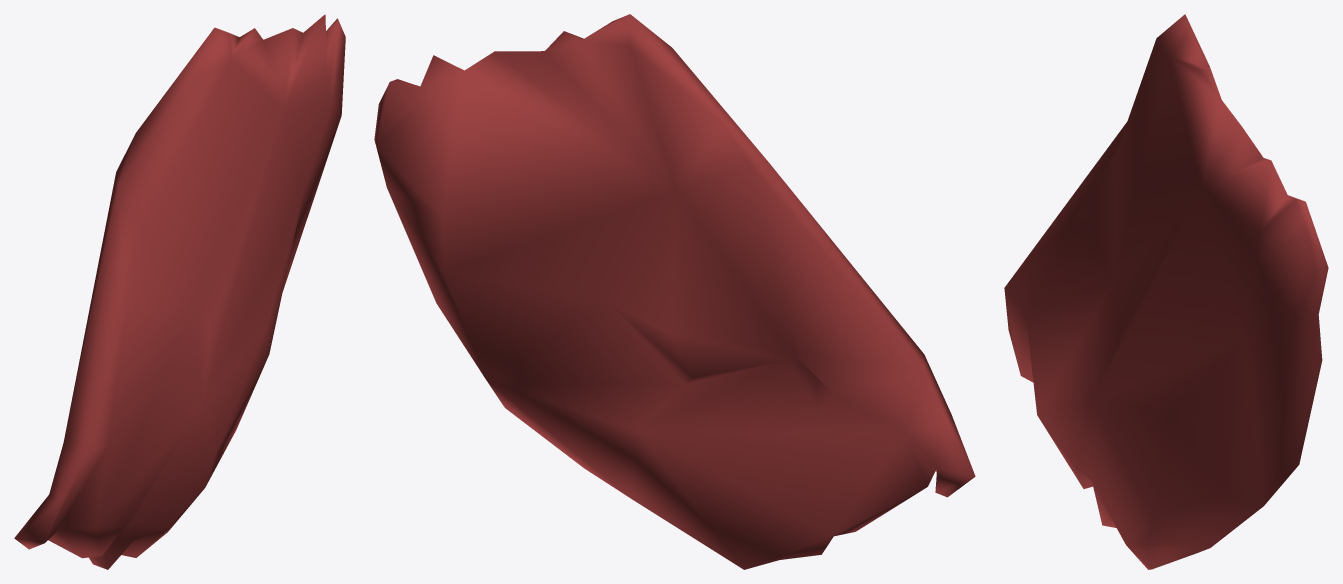
File: mentalis-muscle-l.glb
3 views of the same model, side by side, from view 1: azimuth 30°, elevation 25°; view 2: azimuth 150°, elevation 25°; view 3: azimuth 270°, elevation 25° (orthographic). The views are drawn at different scales.
Visible parts, largest first — view 1: Mentalis muscle.l; view 2: Mentalis muscle.l; view 3: Mentalis muscle.l.
Boxes of the visible parts, x1,y1,x2,y2 form: Mentalis muscle.l: (14, 14, 345, 569); Mentalis muscle.l: (374, 14, 975, 569); Mentalis muscle.l: (1004, 14, 1328, 569).
Size of the model in its own units: 0.0137 by 0.0148 by 0.00708.
